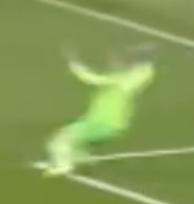goalkeeper: (21, 22, 165, 186)
